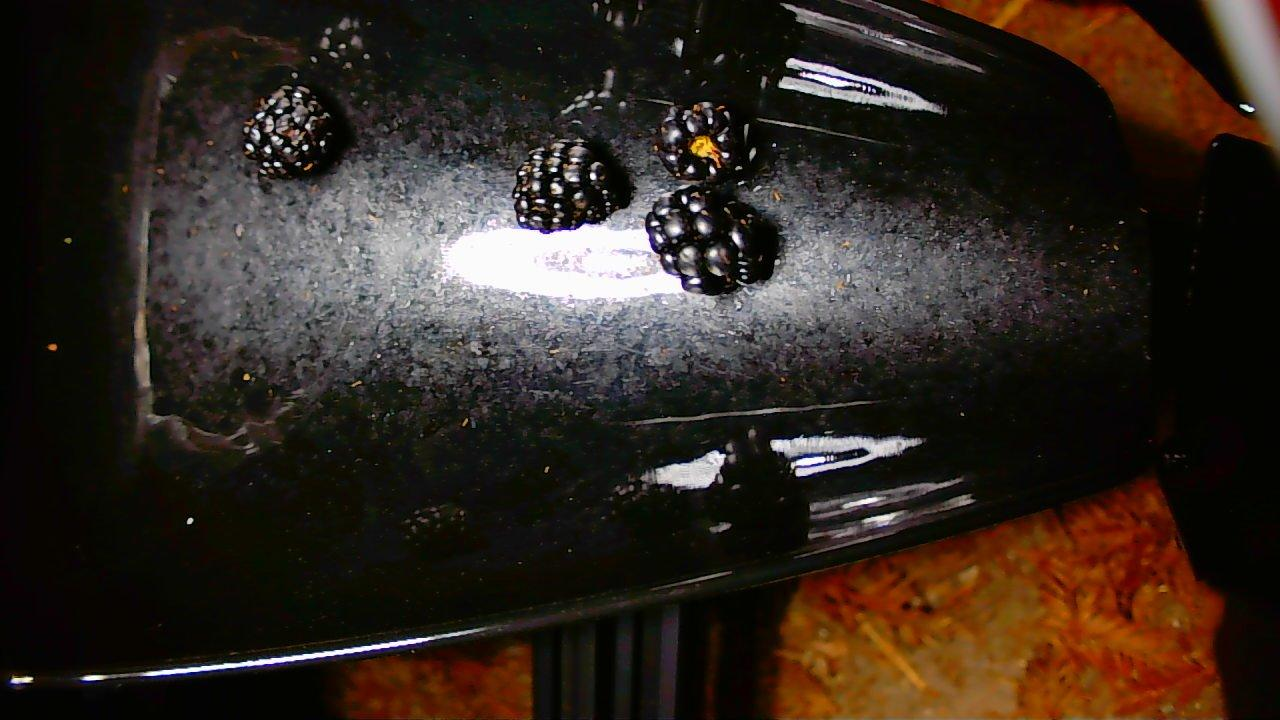berry: (645, 186, 768, 293), (512, 139, 620, 232), (244, 86, 334, 177), (654, 101, 754, 182)
